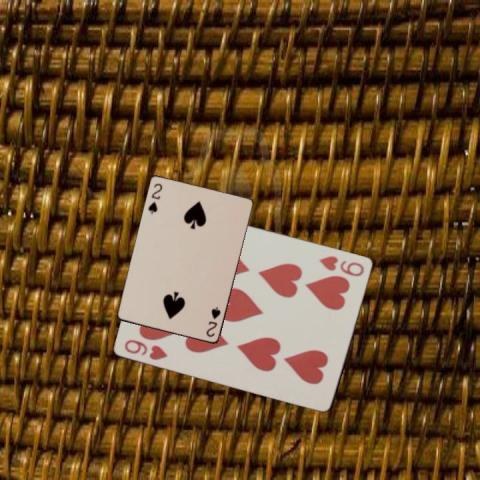2s: (203, 304, 222, 339), (145, 181, 164, 215)
9h: (317, 253, 366, 278), (121, 336, 170, 361)
